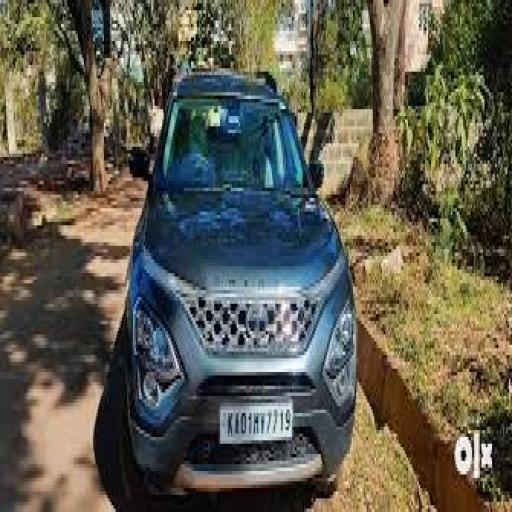car: (122, 46, 396, 494)
